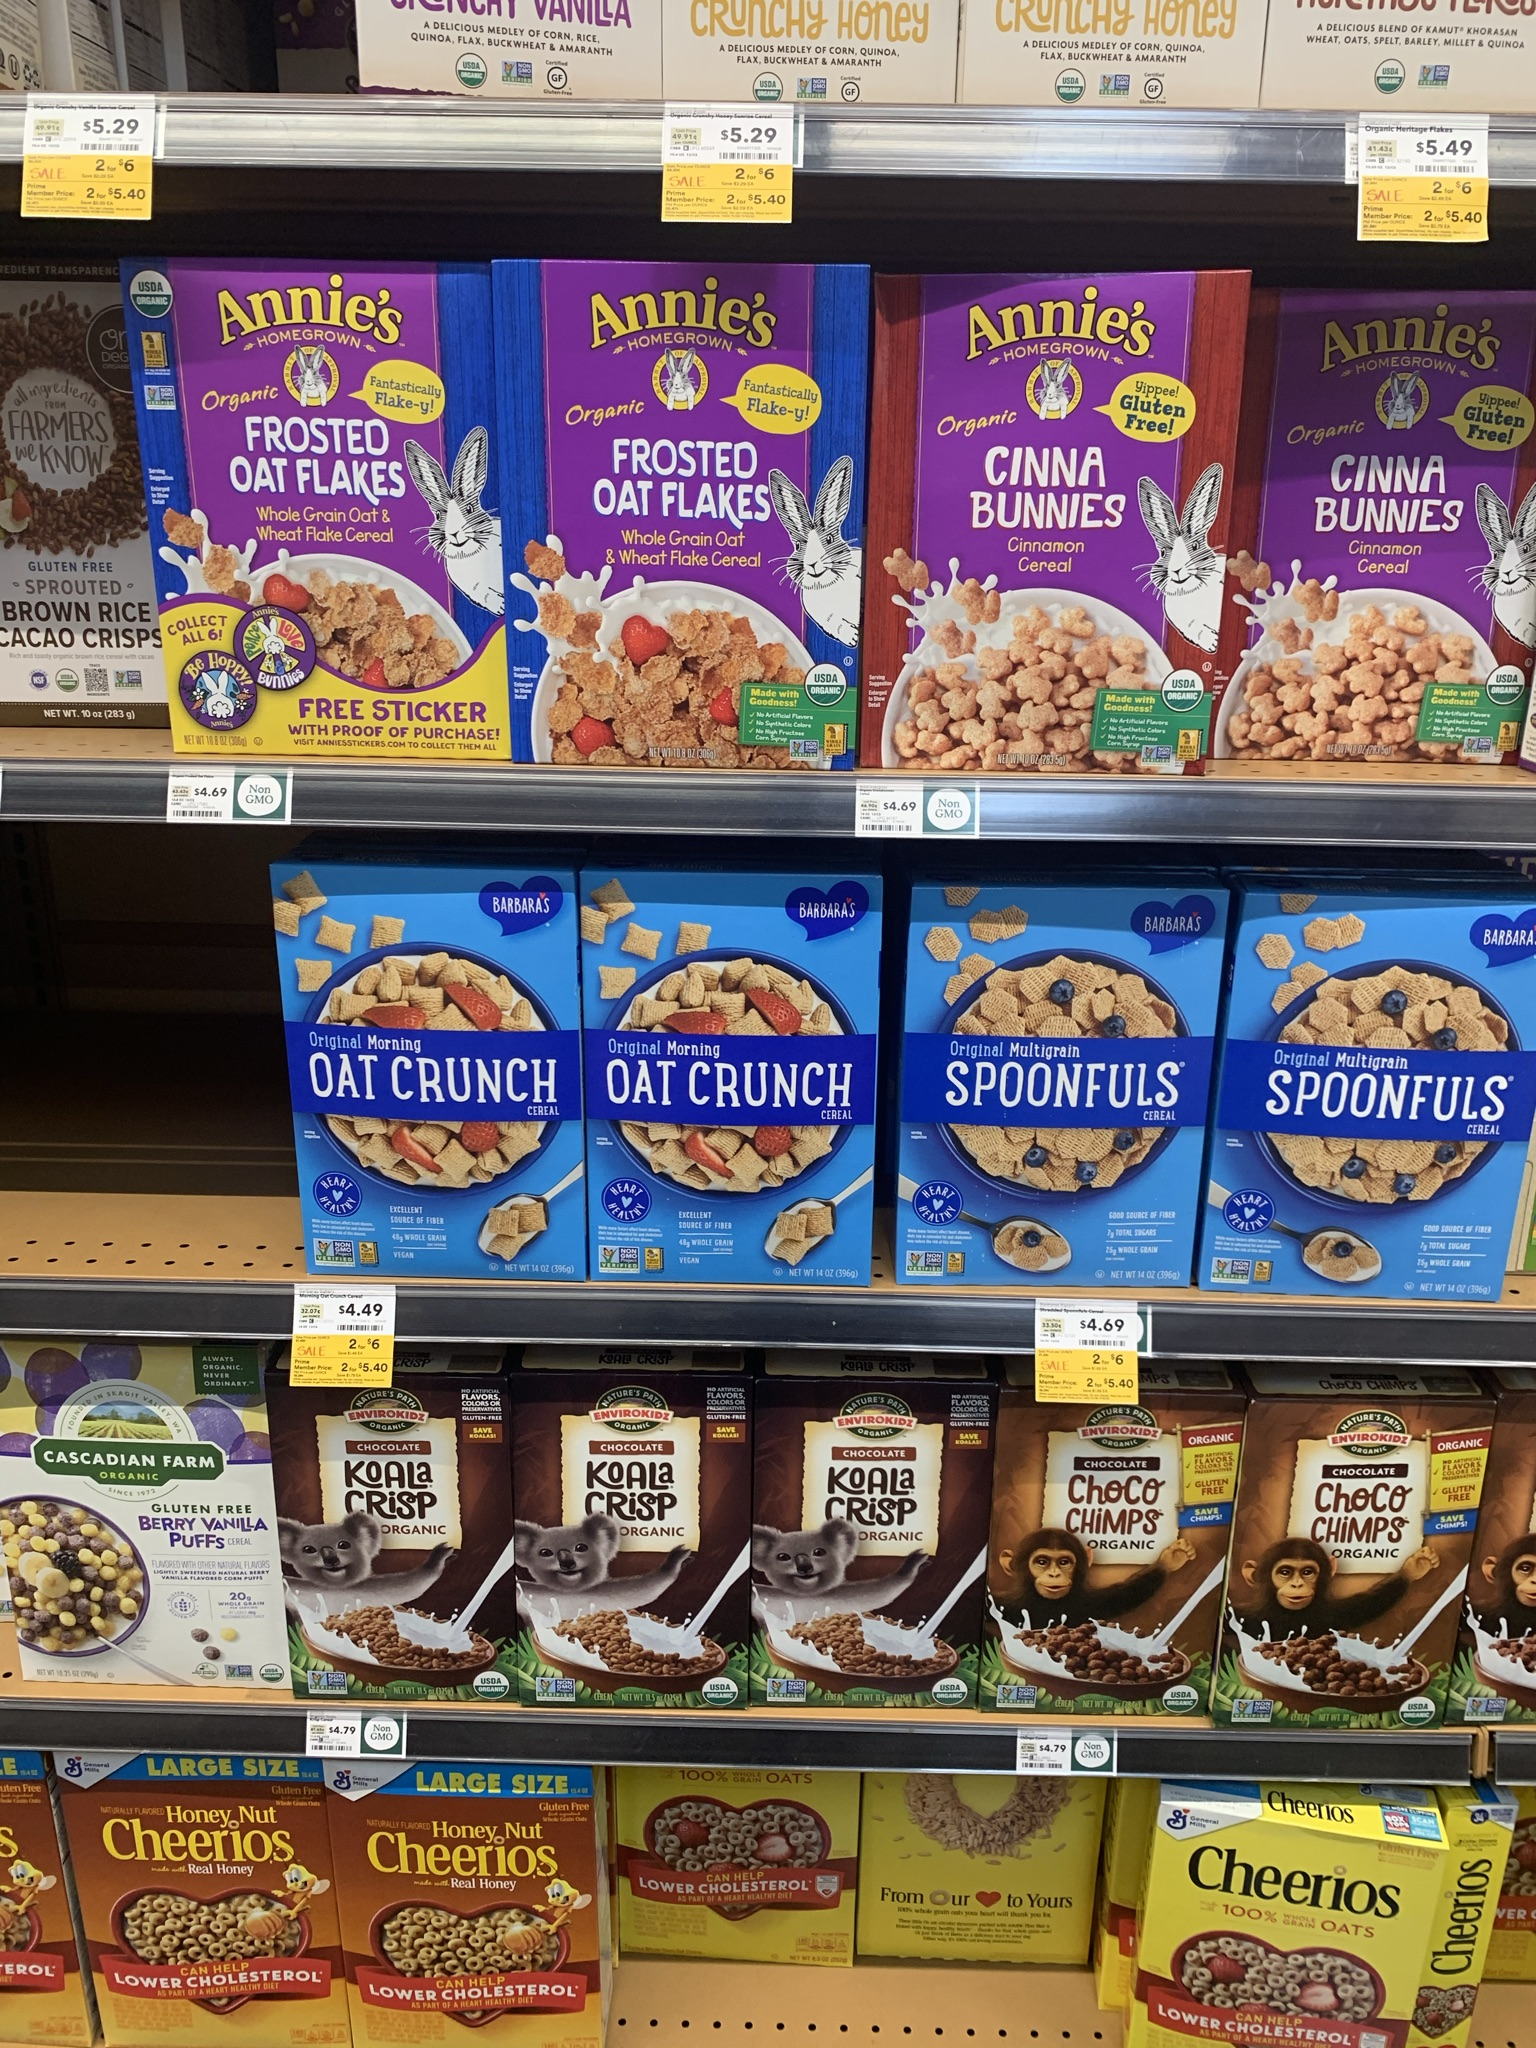Cereal annie's: (139, 281, 520, 760), (524, 260, 878, 756), (897, 284, 1226, 776), (1289, 297, 1526, 742)
Cereal cascadian: (19, 1369, 303, 1725)
Cereal cheerios: (77, 1774, 337, 2048), (1184, 1809, 1462, 2048), (361, 1769, 597, 2048)
Cereal koala: (534, 1385, 744, 1724), (1021, 1392, 1234, 1714), (765, 1397, 983, 1711), (323, 1380, 516, 1721), (1292, 1419, 1452, 1724)
Cereal oat crunch: (261, 869, 599, 1279), (603, 876, 883, 1288), (916, 889, 1192, 1276), (1244, 901, 1509, 1279)
